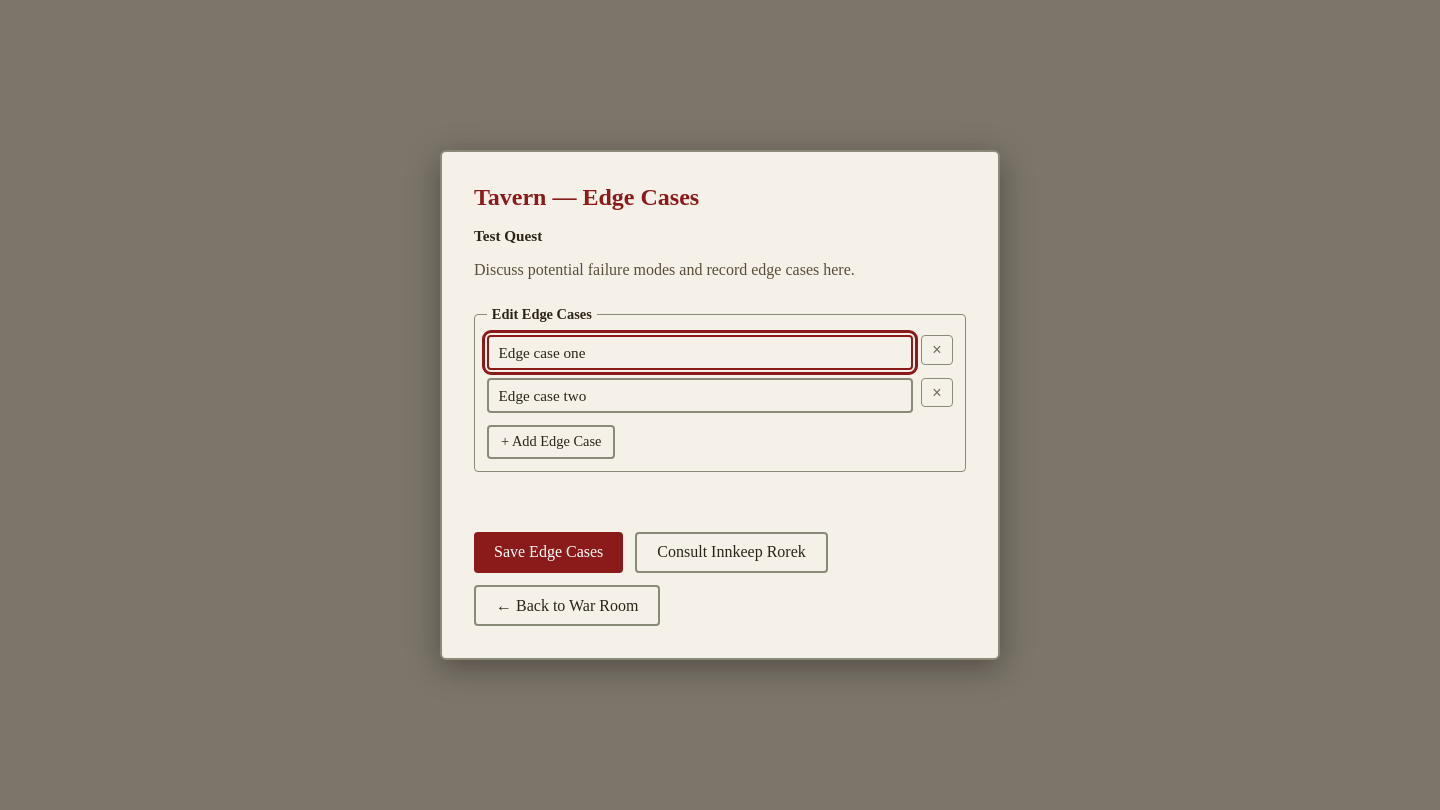
Tavern › shows persistent error on save failure
Expected: the field named "edge case 1" is shown, [487,335,913,370]
Step 1. Click the button "Save Edge Cases" → (549,552), box [474,532,623,573]
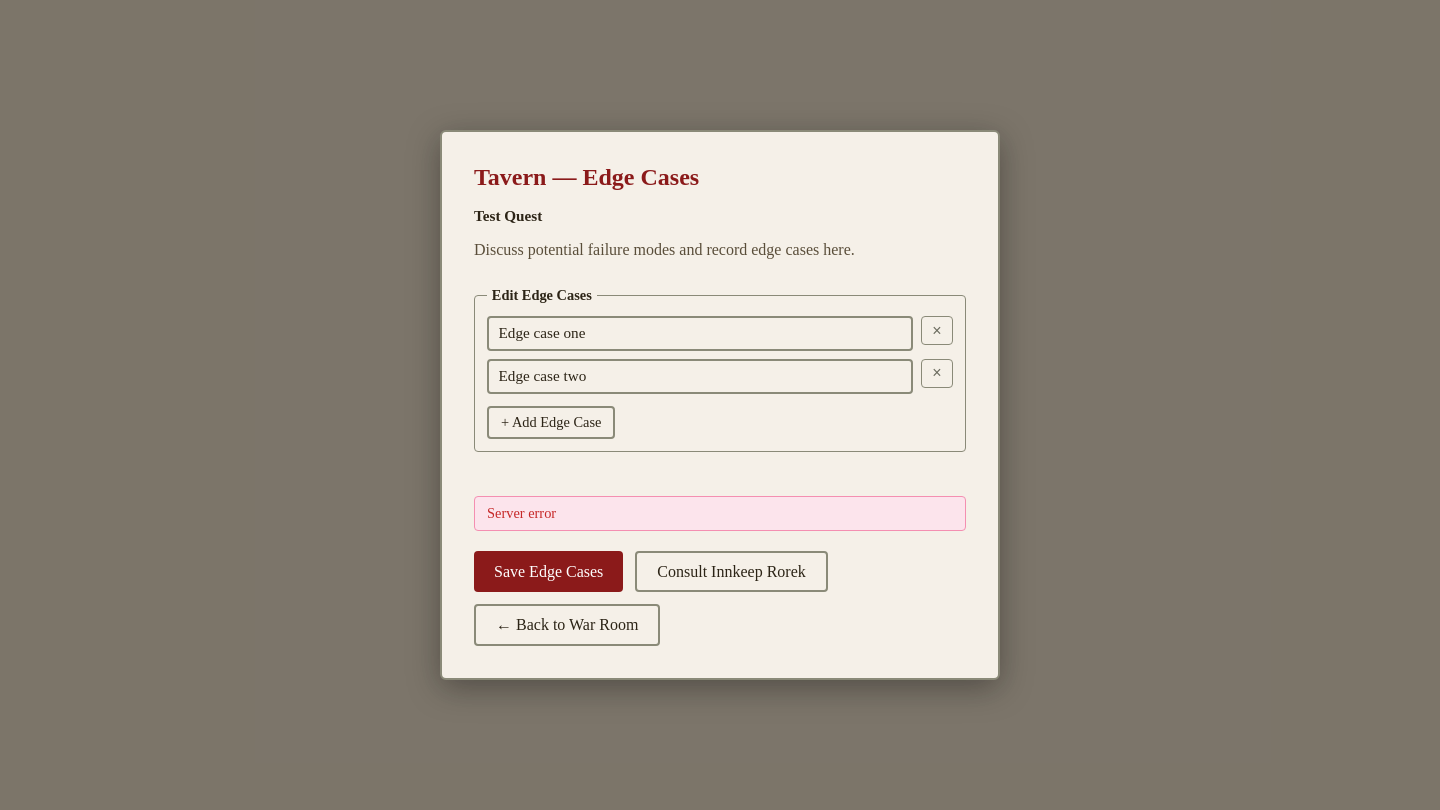
Result: the message "Server error" is shown at [474,496,966,531]
